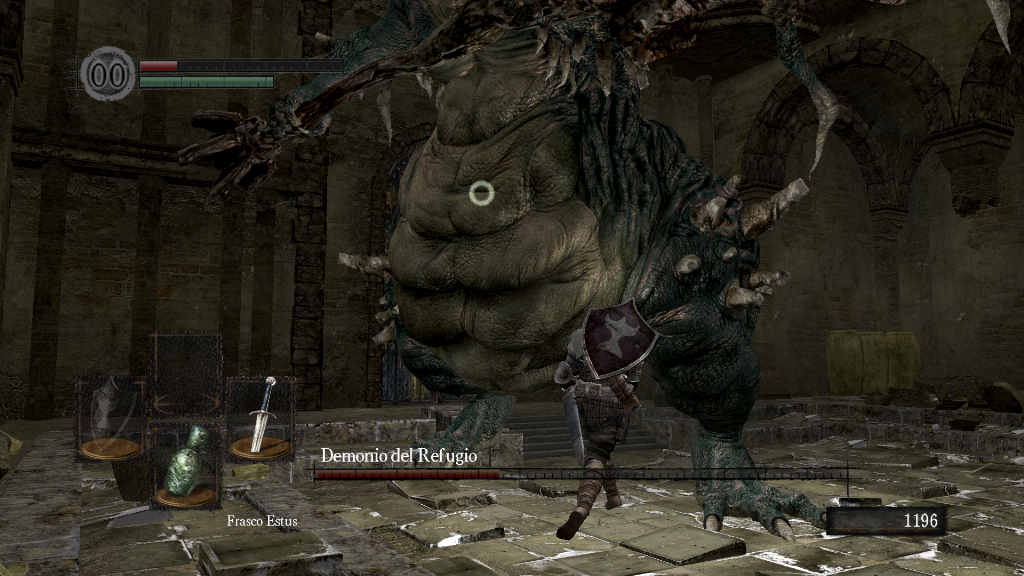asylumDemon: (175, 1, 849, 545)
bossHP: (314, 469, 847, 479)
health: (138, 58, 343, 71)
humanity: (80, 45, 136, 102)
player: (555, 298, 658, 542)
souls: (825, 506, 945, 536)
stamina: (138, 74, 274, 88)
